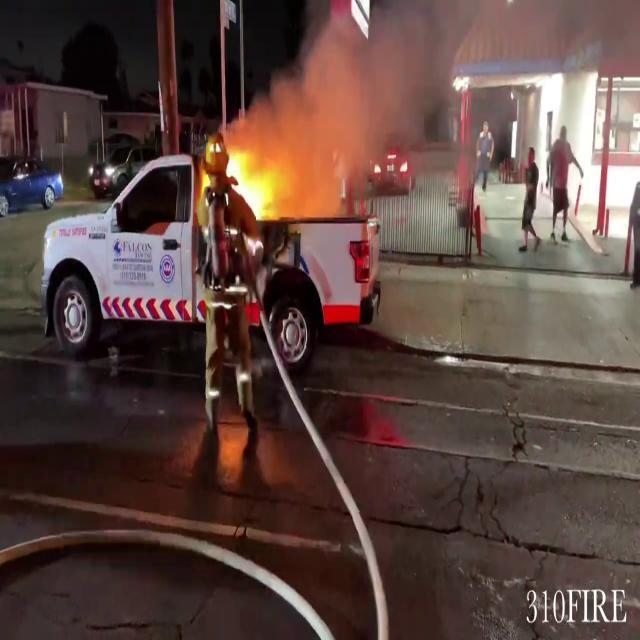Fire: (208, 128, 286, 222)
Smoke: (259, 1, 463, 200)
